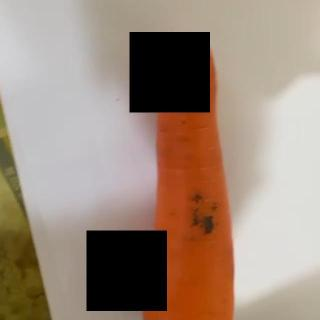carrot: (139, 35, 265, 320)
